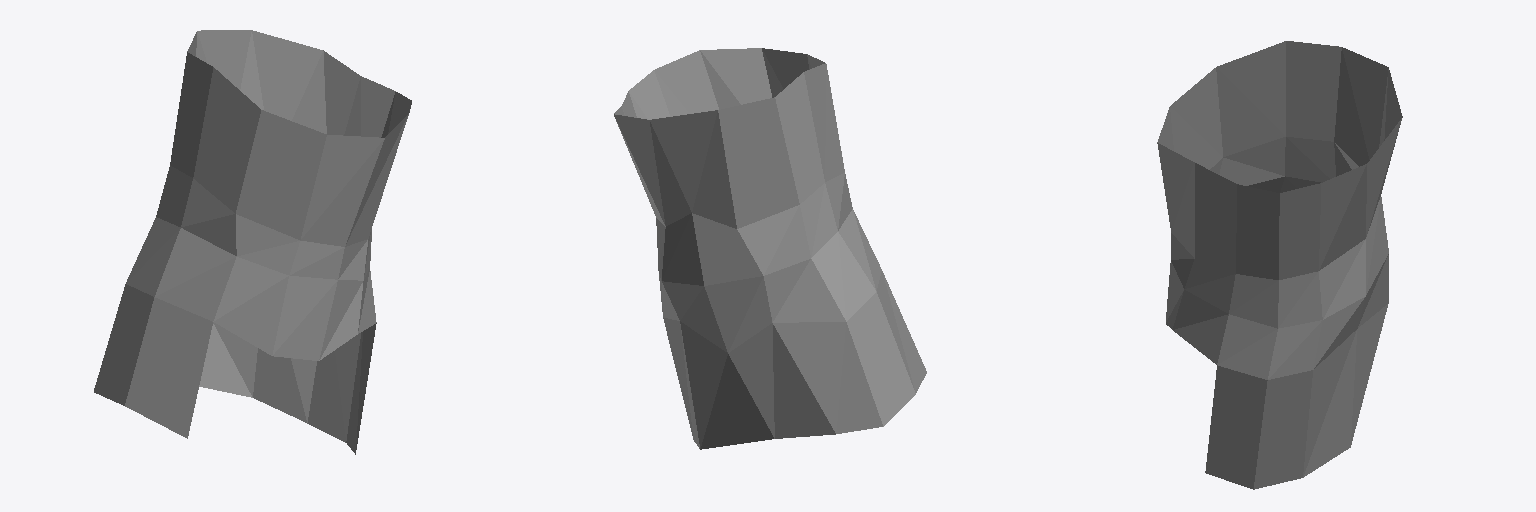
Rendered from leftupperarm.obj.
3 views of the same model, side by side, from view 1: azimuth 30°, elevation 25°; view 2: azimuth 150°, elevation 25°; view 3: azimuth 270°, elevation 25° (orthographic).
Visible parts, largest first — view 1: Patrick.007_Patrick.003; view 2: Patrick.007_Patrick.003; view 3: Patrick.007_Patrick.003.
Part boxes in pixels (x1,y1,x2,y2): Patrick.007_Patrick.003: (94, 30, 411, 454); Patrick.007_Patrick.003: (614, 48, 926, 449); Patrick.007_Patrick.003: (1157, 41, 1402, 489).
Bounding box in the file's own units: 0.1209 × 0.1623 × 0.092.